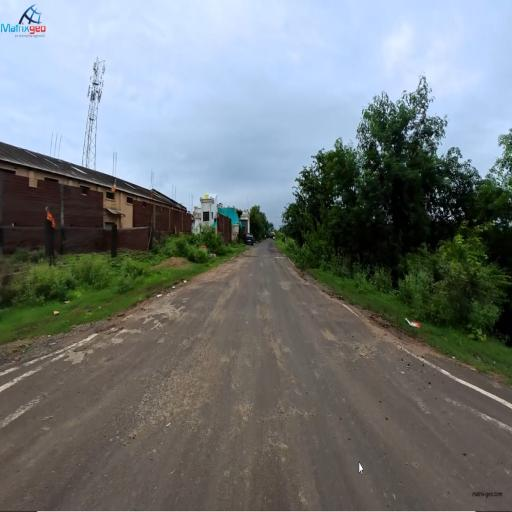ravelling: (352, 331, 376, 381)
